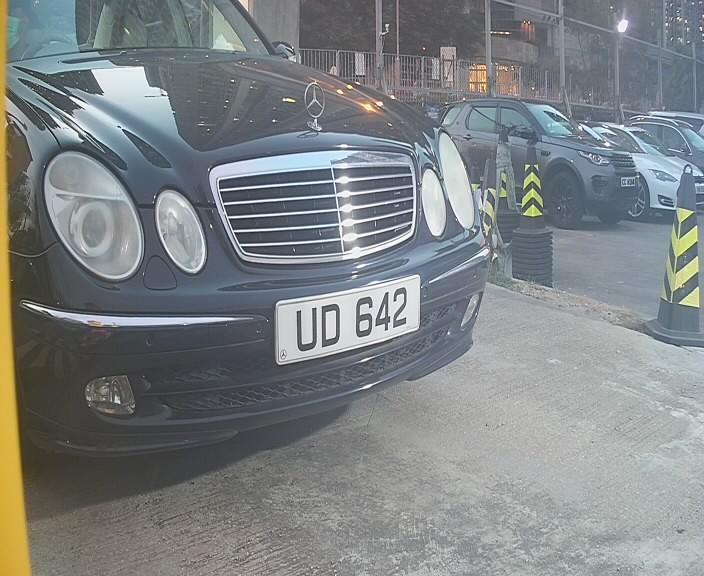License Plate: (274, 273, 419, 368)
